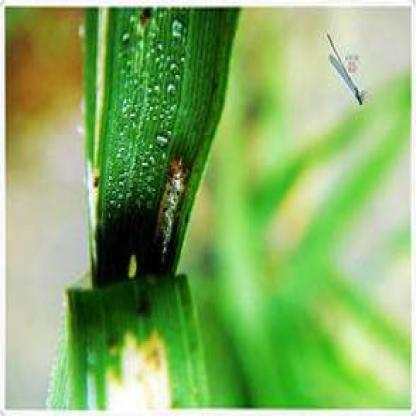leaf-folder: (139, 138, 208, 266)
